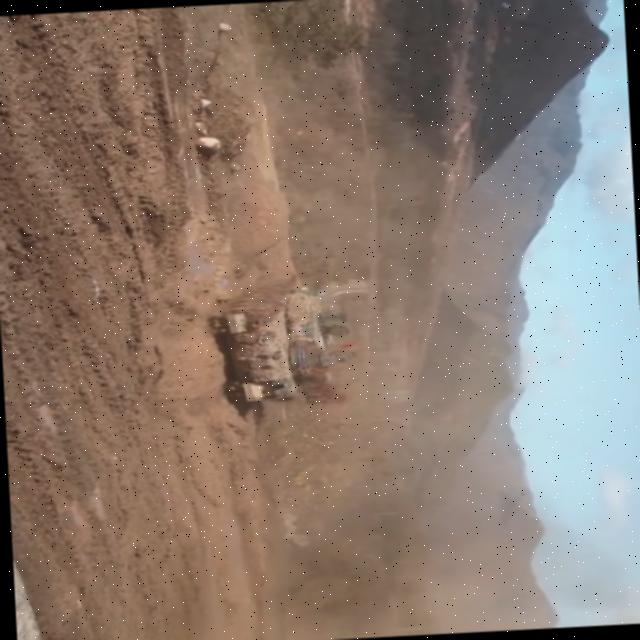korea tank: (202, 245, 370, 415)
